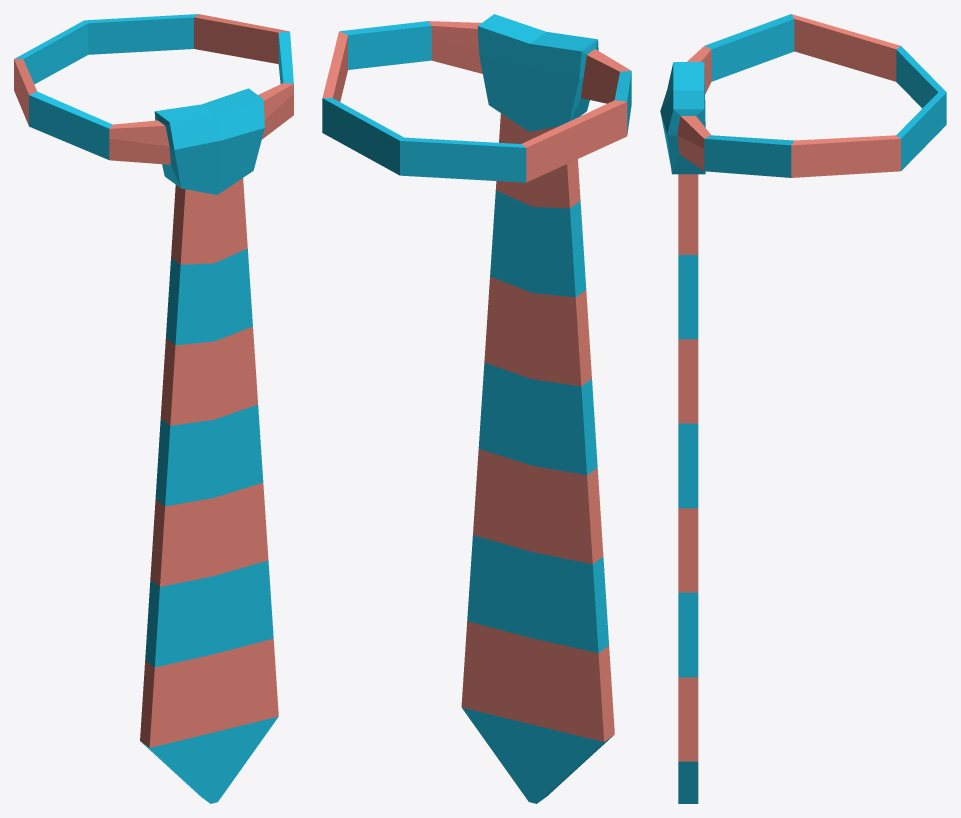
The model's file is zot2DbAyR22is47e.glb.
The picture shows the model from 3 angles, left to right: view 1: azimuth 30°, elevation 25°; view 2: azimuth 150°, elevation 25°; view 3: azimuth 270°, elevation 25°; orthographic projection. The views are drawn at different scales.
Bounding box in the file's own units: 3.81 × 9.76 × 3.51.
